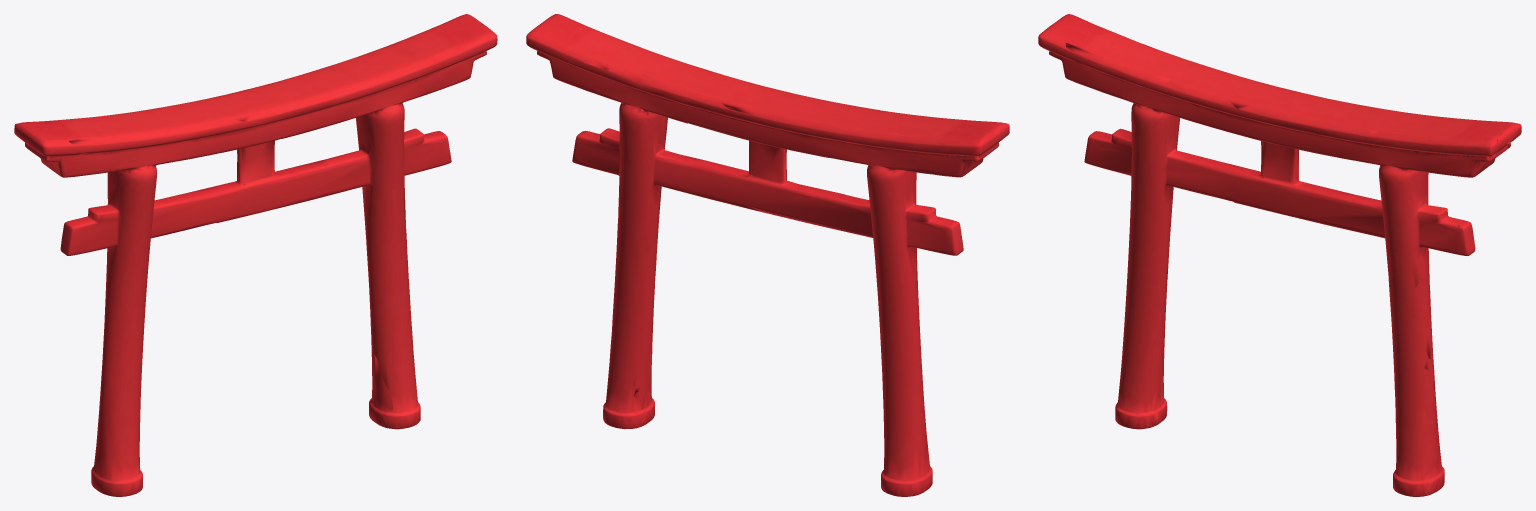
Rendered from torii_gate.glb.
The picture shows the model from 3 angles, left to right: view 1: azimuth 30°, elevation 25°; view 2: azimuth 150°, elevation 25°; view 3: azimuth 330°, elevation 25°; orthographic projection.
Bounding box in the file's own units: 1.91 × 1.5 × 0.2324.
Materials: 1 (1 with a texture image).
